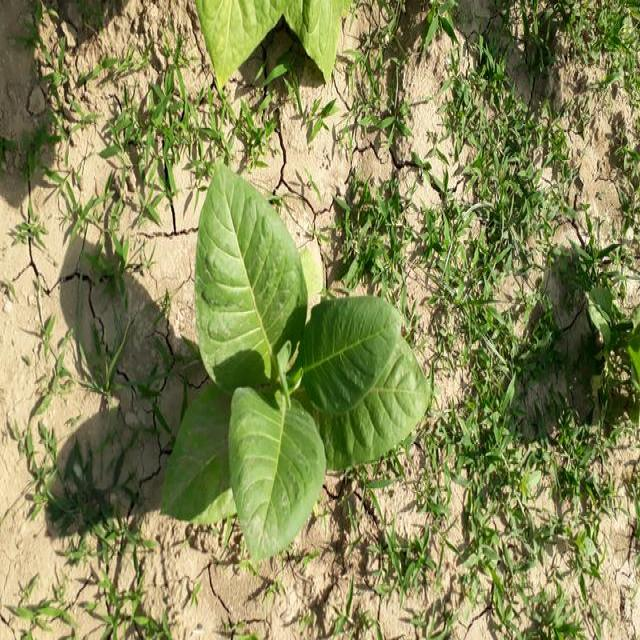crop: (184, 166, 426, 528), (186, 2, 348, 82)
